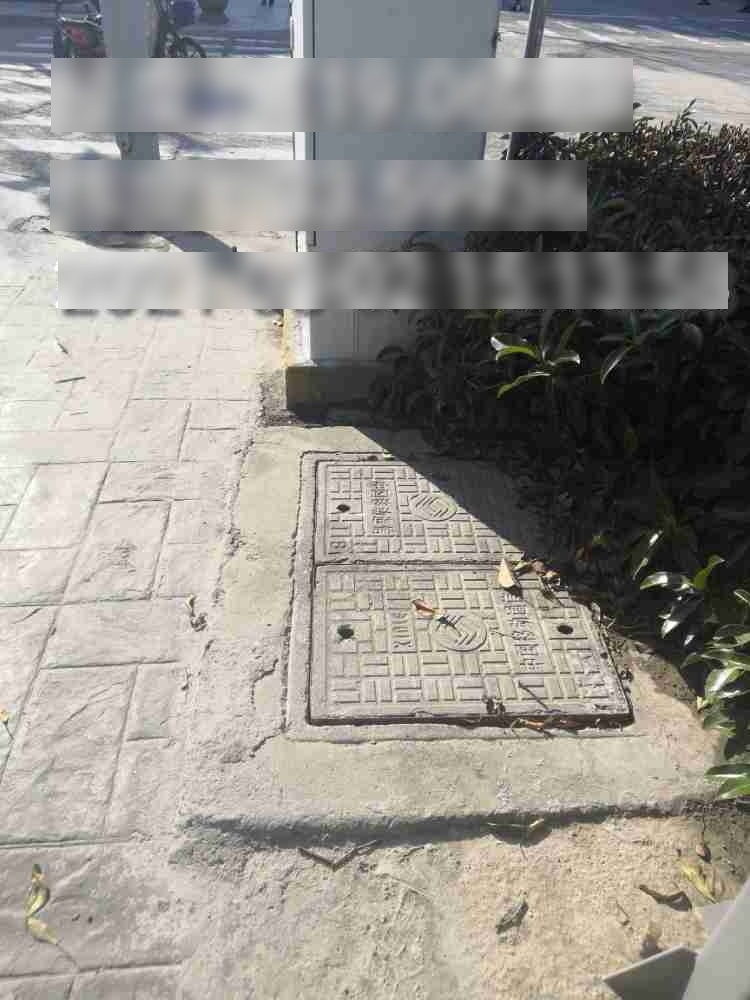good: (283, 451, 651, 736)
